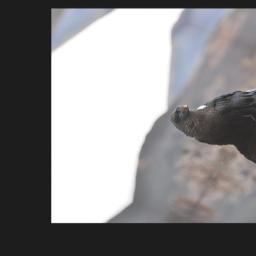Crow: (161, 59, 256, 154)
